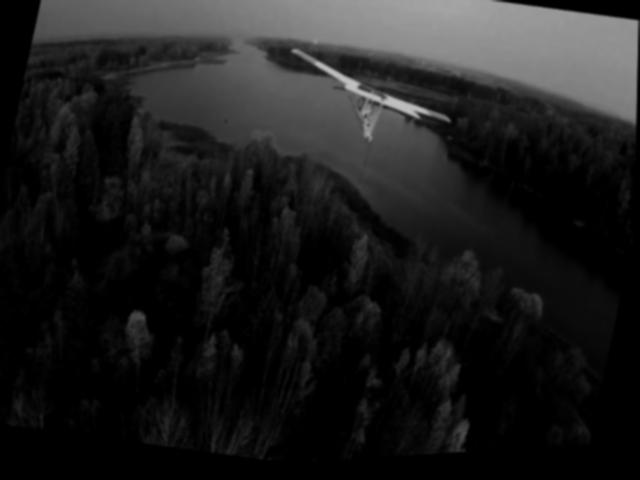hedef: (270, 36, 462, 186)
